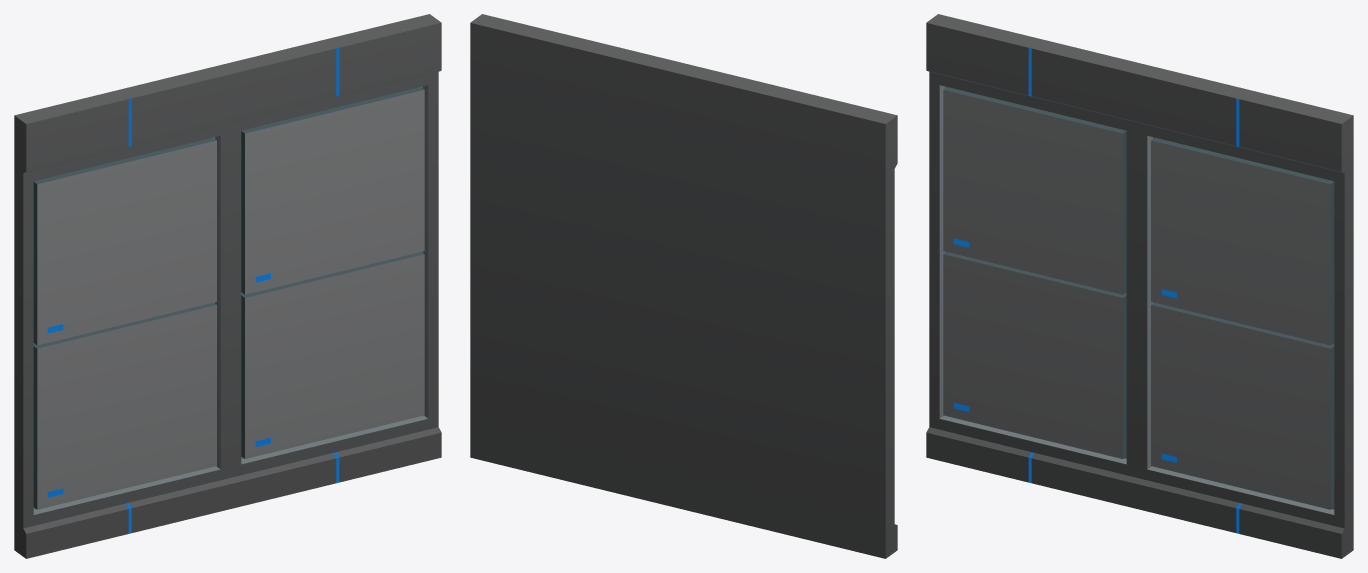
Rendered from Wall_type_B_008.glb.
3 views of the same model, side by side, from view 1: azimuth 30°, elevation 25°; view 2: azimuth 150°, elevation 25°; view 3: azimuth 330°, elevation 25° (orthographic).
Visible parts, largest first — view 1: Wall_type_B_008; view 2: Wall_type_B_008; view 3: Wall_type_B_008.
Boxes of the visible parts, box(x1,y1,x2,y2) form: Wall_type_B_008: box(14, 14, 441, 558); Wall_type_B_008: box(470, 14, 897, 558); Wall_type_B_008: box(926, 14, 1353, 558).
Size of the model in its own units: 4 by 4 by 0.2.
Materials: 2 (2 with a texture image).
